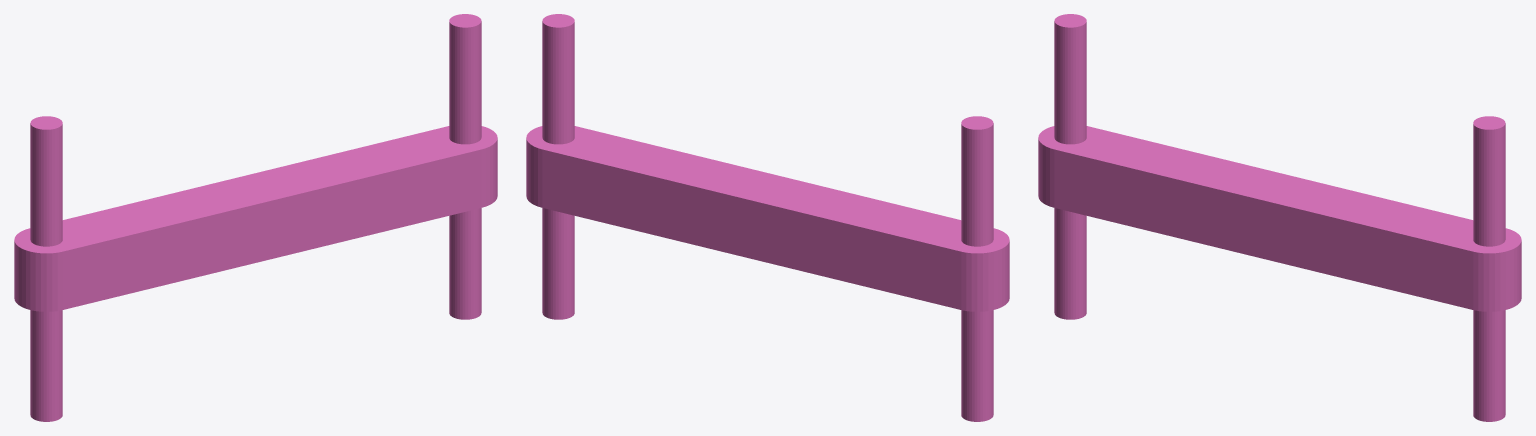
Rendered from Eslabon2.dae.
The picture shows the model from 3 angles, left to right: view 1: azimuth 30°, elevation 25°; view 2: azimuth 150°, elevation 25°; view 3: azimuth 330°, elevation 25°; orthographic projection.
Parts seen in each view (by area): view 1: 2Eslabon2; view 2: 2Eslabon2; view 3: 2Eslabon2.
Part boxes in pixels (left/top/right/bottom): 2Eslabon2: left=14, top=14, right=497, bottom=421; 2Eslabon2: left=526, top=14, right=1009, bottom=421; 2Eslabon2: left=1038, top=14, right=1521, bottom=421.
Size of the model in its own units: 0.17 by 0.02 by 0.1.
